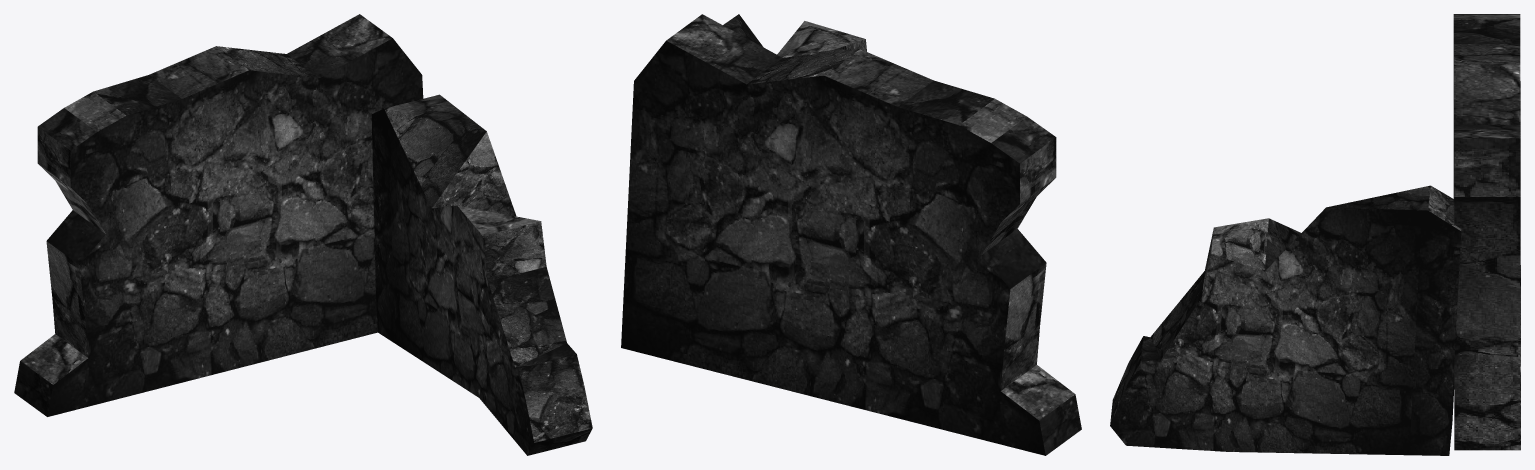
Rendered from RuinH1.FBX.
The picture shows the model from 3 angles, left to right: view 1: azimuth 30°, elevation 25°; view 2: azimuth 150°, elevation 25°; view 3: azimuth 270°, elevation 25°; orthographic projection. The views are drawn at different scales.
Visible parts, largest first — view 1: Line001, Line002; view 2: Line001, Line002; view 3: Line002, Line001.
Part boxes in pixels (x1,y1,x2,y2): Line001: [14, 14, 423, 416]; Line002: [371, 94, 592, 455]; Line001: [621, 14, 1081, 455]; Line002: [723, 14, 866, 57]; Line002: [1110, 185, 1461, 455]; Line001: [1453, 14, 1520, 450].
Size of the model in its own units: 81.21 by 59.81 by 74.15.
1 material, 1 textured.
